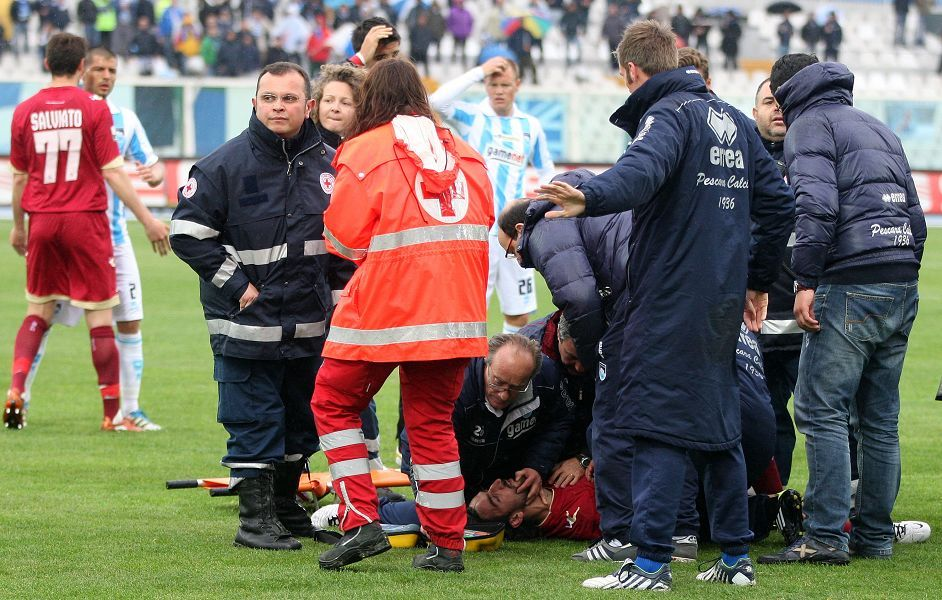10+: (2, 1, 939, 592)
down: (459, 464, 792, 545)
